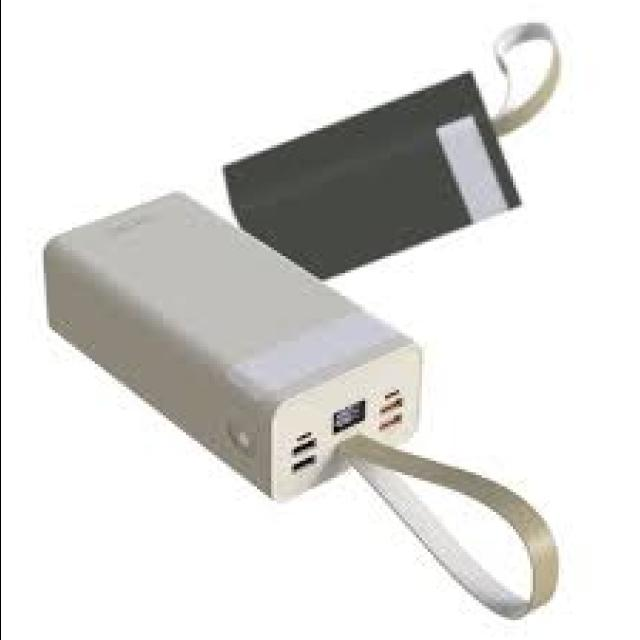power_bank: (41, 184, 429, 500), (220, 67, 520, 286)
